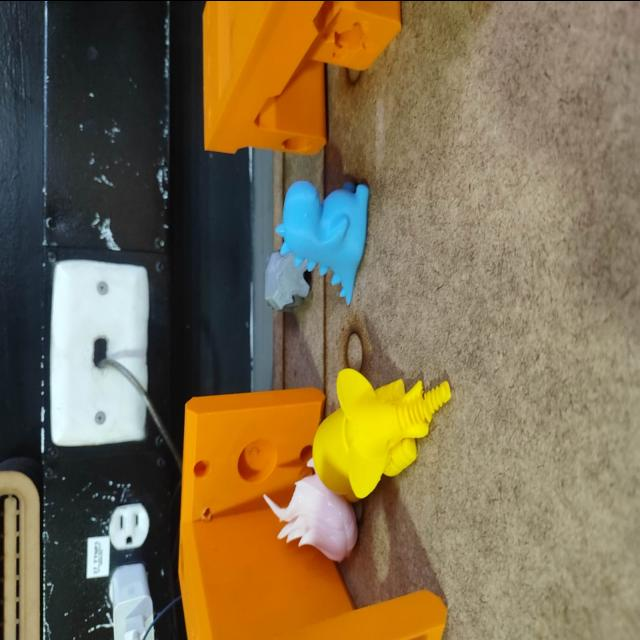DINO: (274, 168, 378, 304)
